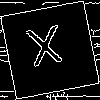X: (24, 25, 67, 76)
